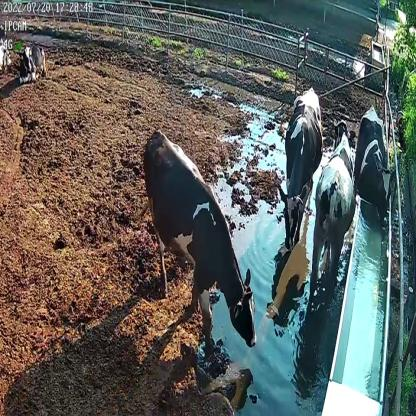cow: (141, 129, 258, 350), (308, 114, 358, 306), (277, 84, 323, 252), (356, 102, 394, 226), (19, 42, 47, 85)
